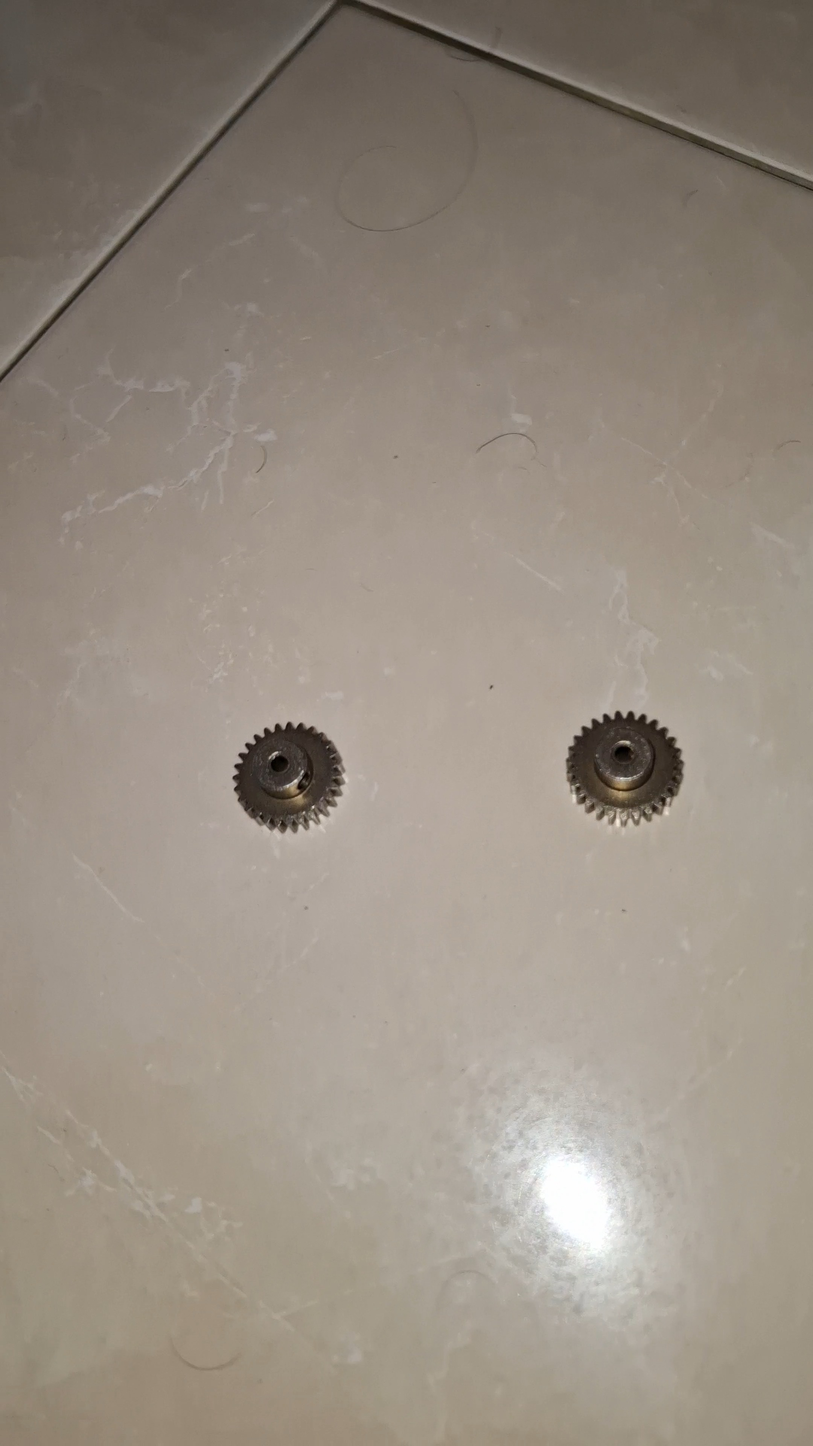spur gear: (567, 712, 682, 825), (234, 724, 344, 831)
